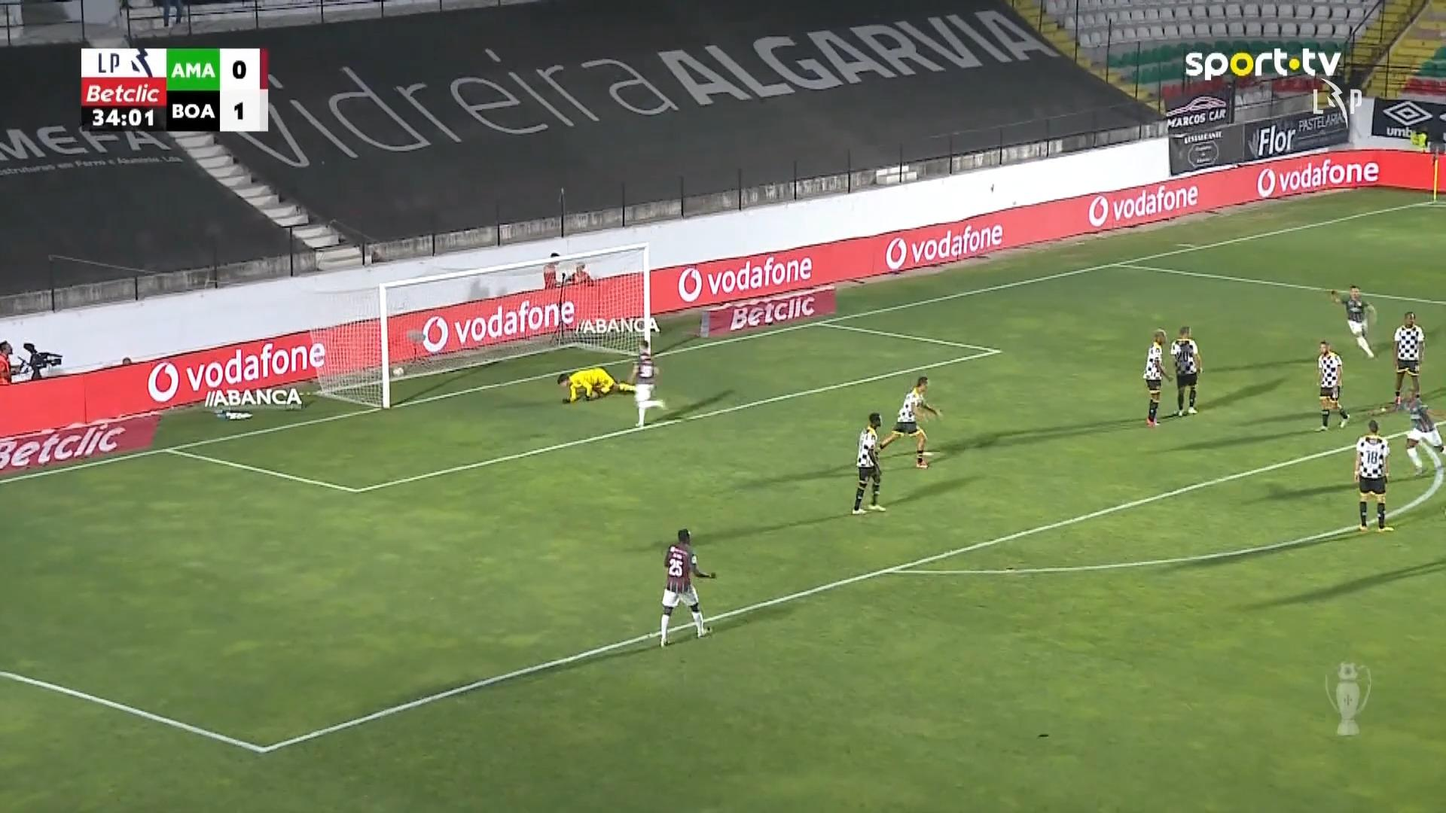ball: (392, 366, 404, 376)
goalkeeper: (556, 365, 636, 403)
player: (658, 528, 716, 647), (877, 374, 943, 468), (1353, 418, 1394, 531), (1389, 309, 1426, 411), (1402, 389, 1444, 475), (851, 411, 886, 514), (1329, 284, 1377, 358), (627, 340, 665, 428), (1314, 340, 1349, 431), (1142, 328, 1173, 426), (1169, 324, 1202, 416)
